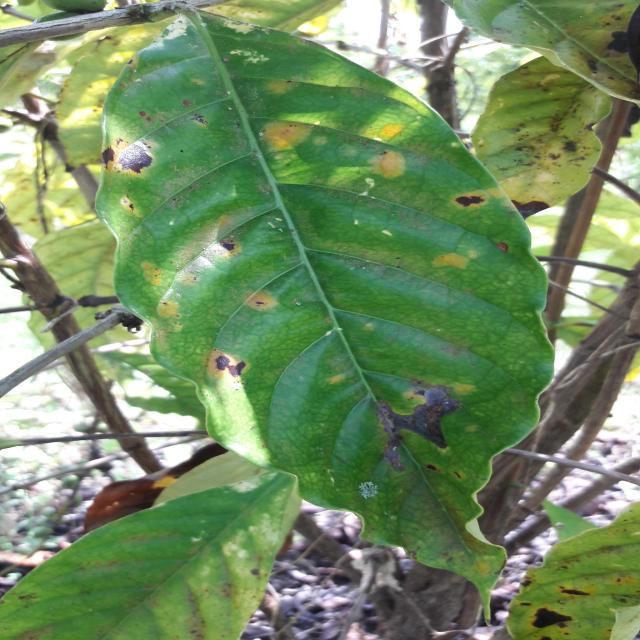Plaga-AranaRoja: (92, 13, 554, 625)
